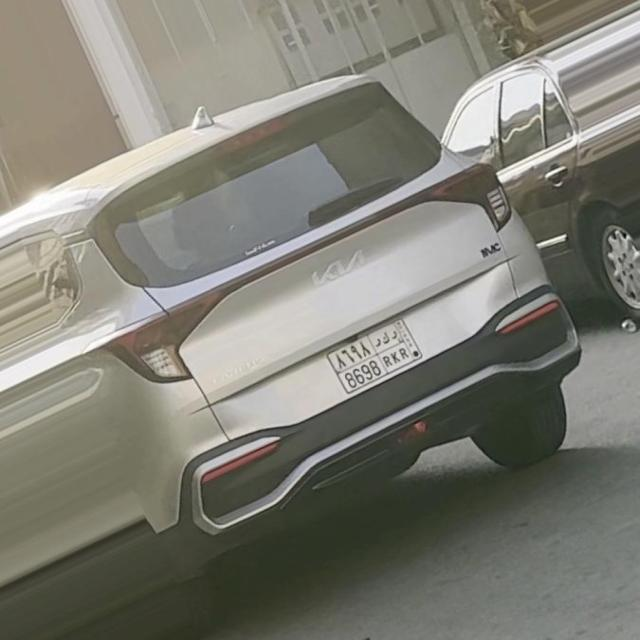Car-plate: (317, 308, 444, 406)
